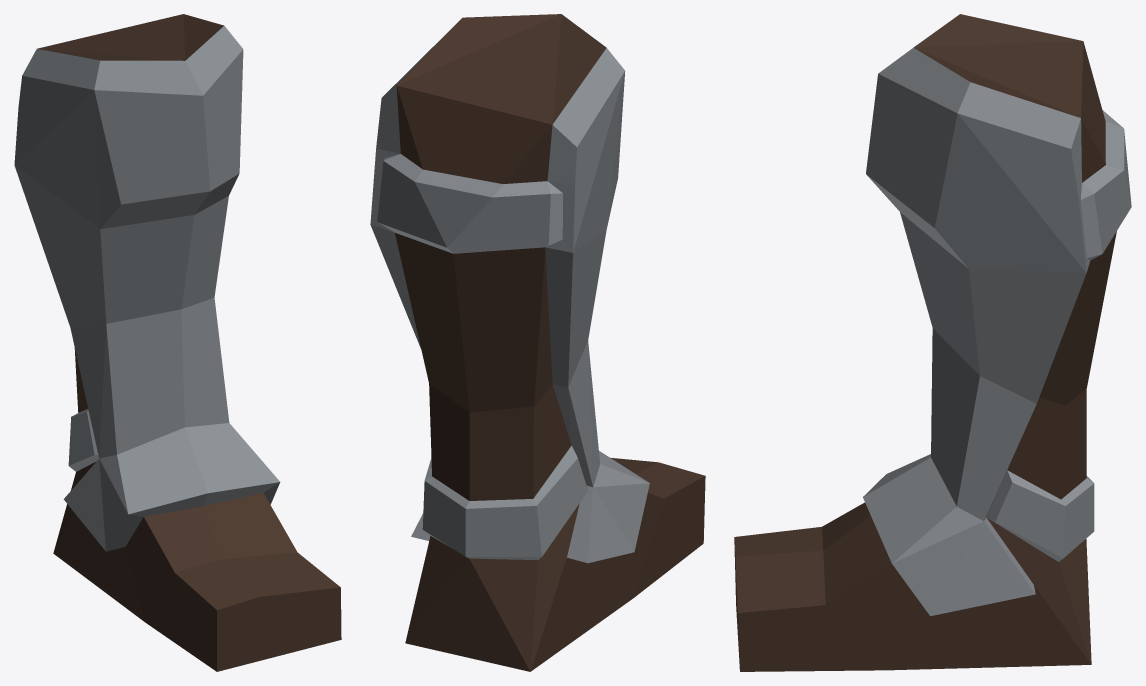
The model's file is Chr_LegRight_Male_15_Static.fbx.
The picture shows the model from 3 angles, left to right: view 1: azimuth 30°, elevation 25°; view 2: azimuth 150°, elevation 25°; view 3: azimuth 270°, elevation 25°; orthographic projection. The views are drawn at different scales.
Parts seen in each view (by area): view 1: Chr_LegRight_Male_15_Static; view 2: Chr_LegRight_Male_15_Static; view 3: Chr_LegRight_Male_15_Static.
Boxes of the visible parts, x1,y1,x2,y2 form: Chr_LegRight_Male_15_Static: (14,14,341,671); Chr_LegRight_Male_15_Static: (370,14,705,671); Chr_LegRight_Male_15_Static: (734,14,1131,671).
Bounding box in the file's own units: 0.1479 × 0.4048 × 0.2496.
